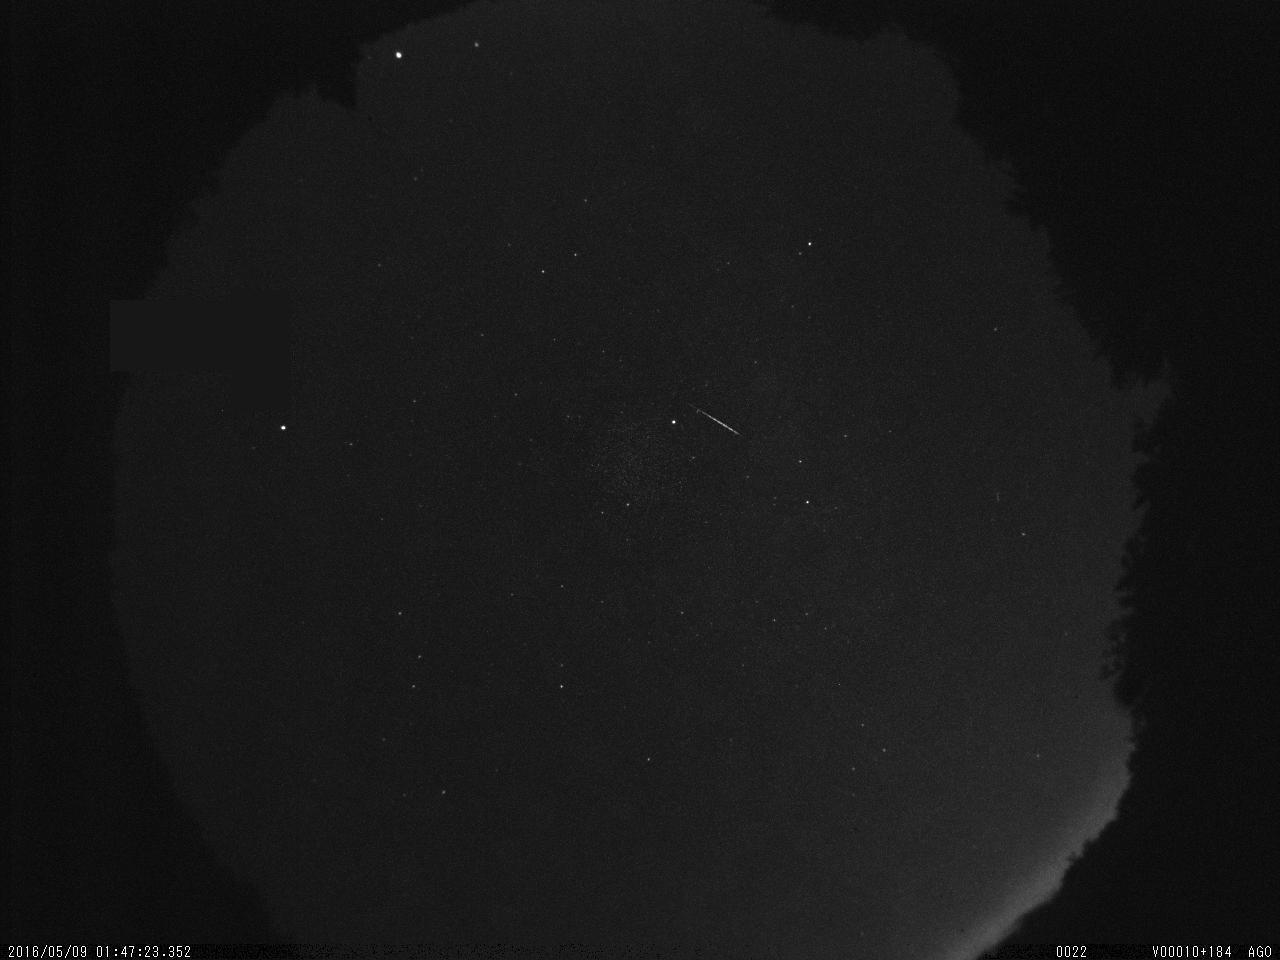meteor: (676, 390, 750, 458)
